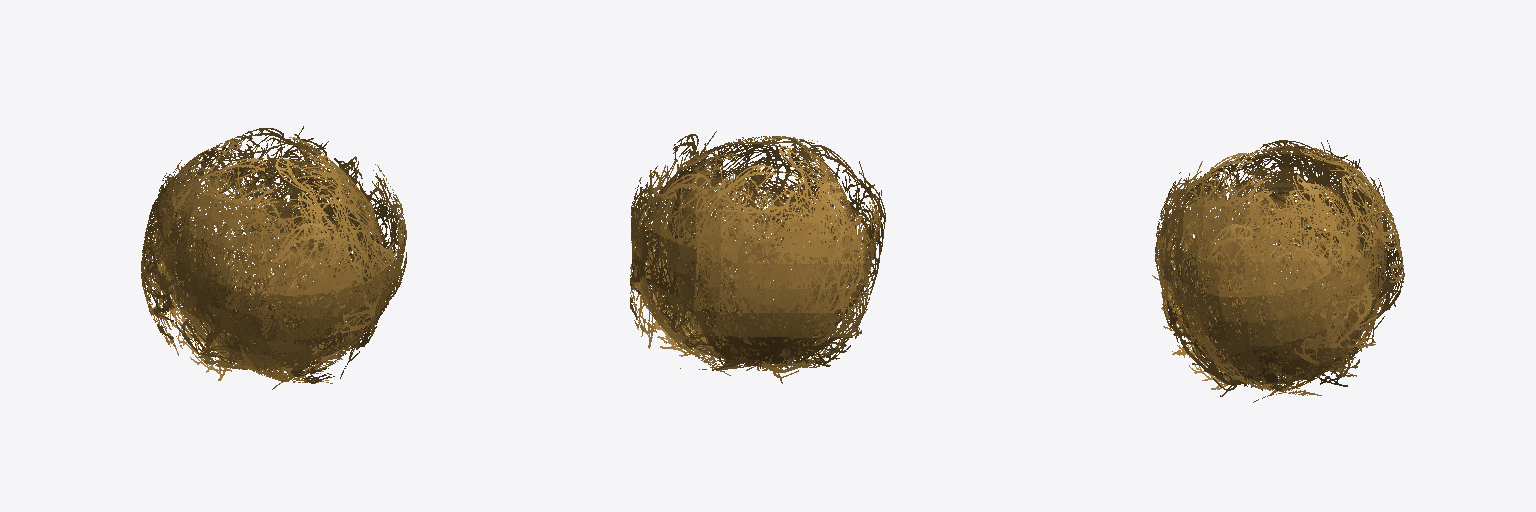
3 renders of one model, left to right at view 1: azimuth 30°, elevation 25°; view 2: azimuth 150°, elevation 25°; view 3: azimuth 270°, elevation 25°, orthographic.
Parts seen in each view (by area): view 1: tumbleweed_lambert2_0; view 2: tumbleweed_lambert2_0; view 3: tumbleweed_lambert2_0.
Part boxes in pixels (bbox=[...]): tumbleweed_lambert2_0: bbox=[141, 126, 406, 389]; tumbleweed_lambert2_0: bbox=[630, 131, 885, 383]; tumbleweed_lambert2_0: bbox=[1152, 140, 1404, 402].
Size of the model in its own units: 0.7804 by 0.9106 by 0.7639.
Materials: 1 (1 with a texture image).